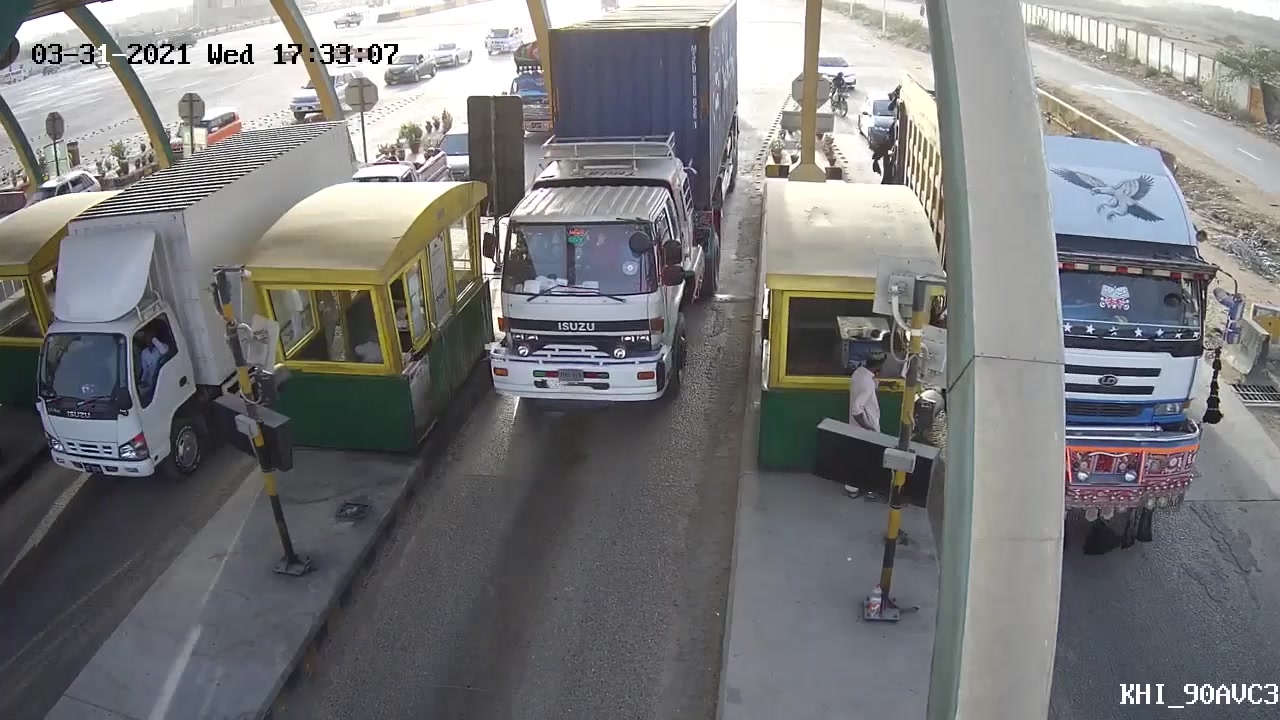F6: (494, 14, 714, 443)
